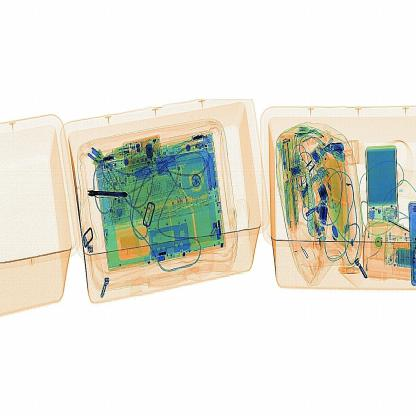knife: (85, 183, 131, 204)
